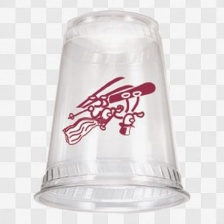glass: (29, 6, 195, 220)
